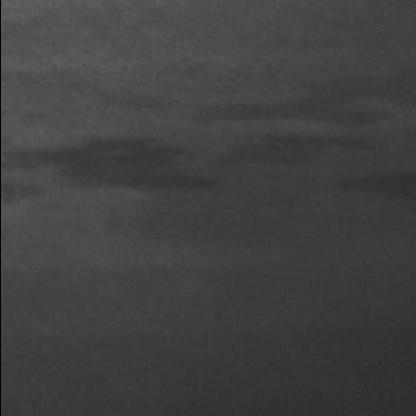inclusion: (6, 136, 395, 204), (42, 61, 416, 129), (320, 164, 416, 212)
